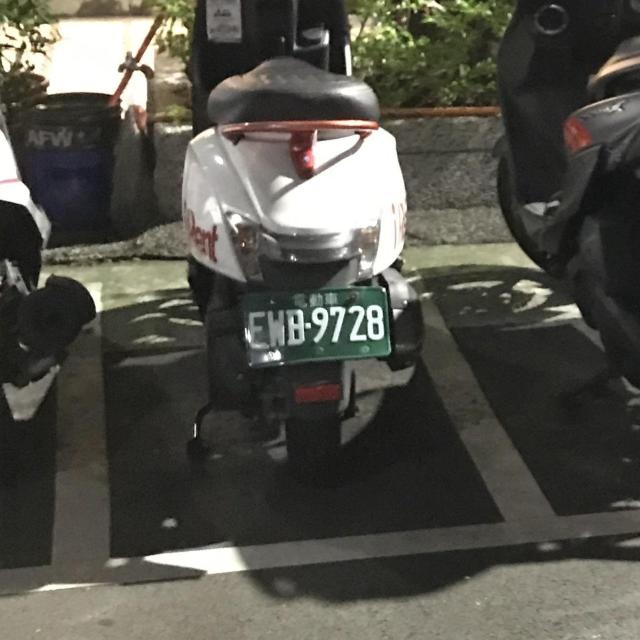GW: (230, 280, 396, 380)
